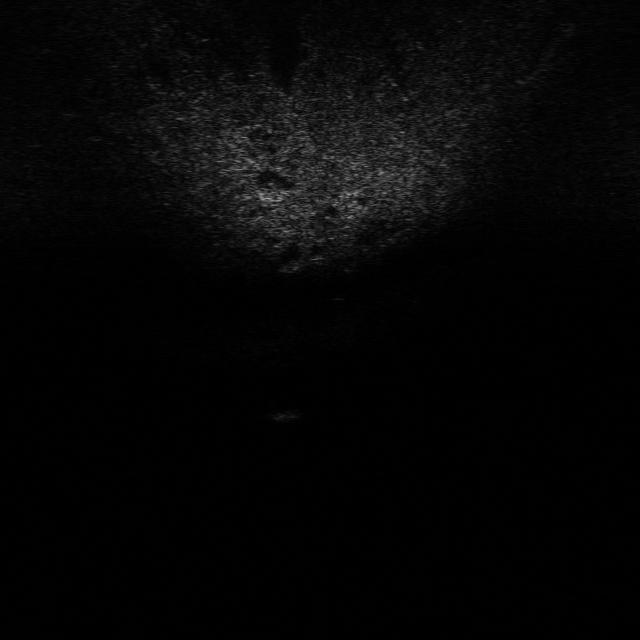cube: (254, 397, 308, 422)
